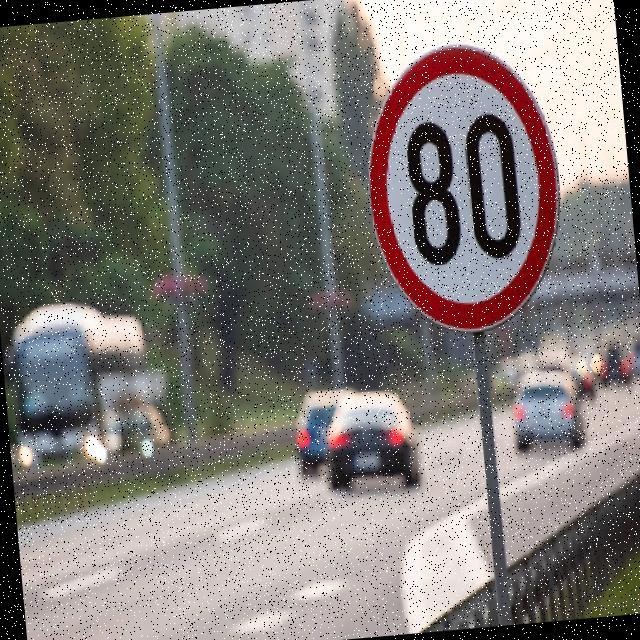speed_limit_80: (348, 22, 575, 344)
